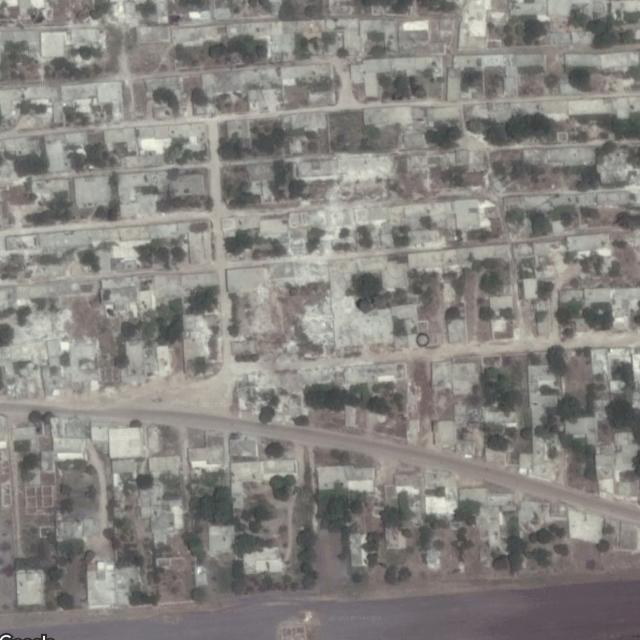damaged_building: (0, 308, 70, 400), (236, 368, 330, 422), (276, 290, 333, 365), (328, 153, 392, 204), (249, 278, 273, 334), (294, 260, 328, 284)
